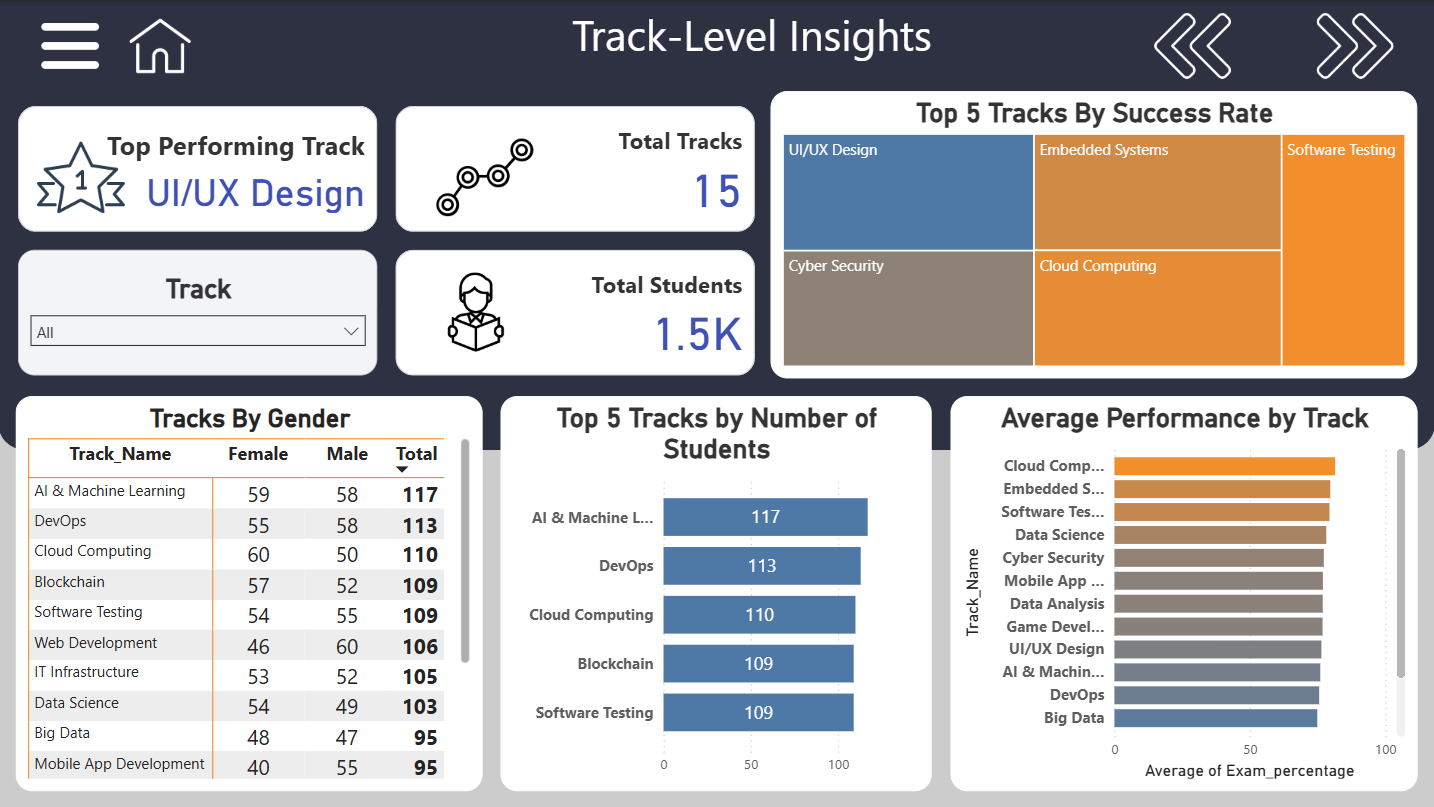

The dashboard page shown, as its layout file describes it:
{"tool":"powerbi","page":{"name":"06.Track-Level Insights","canvas":[1280,720],"ordinal":5},"visuals":[{"type":"shape","box":[0,0,1280,400],"z":0},{"type":"cardVisual","fields":{"Data":["Dim_Track.Total Tracks"]},"box":[354.1,93.3,320,112],"z":1000},{"type":"clusteredBarChart","title":"Top 5 Tracks by Number of Students","fields":{"Category":["Dim_Track.Track_Name"],"Y":["Dim_Track.Number_of_Students for track"]},"box":[448,352,384,352],"z":2000},{"type":"treemap","title":"Top 5 Tracks By Success Rate","fields":{"Values":["Fact_Exam_Result.Pass Rate per Track"],"Group":["Dim_Track.Track_Name"]},"box":[688,80,576,256],"z":3000},{"type":"slicer","title":"Track","fields":{"Values":["Dim_Track.Track_Name"]},"box":[18.1,221.3,320,112],"z":4000},{"type":"clusteredBarChart","title":"Average Performance by Track","fields":{"Category":["Dim_Track.Track_Name"],"Y":["Avg(Fact_Exam_Result.Exam_percentage)"]},"box":[848,352,416,352],"z":5000},{"type":"textbox","box":[448,0,448,64],"z":6000},{"type":"cardVisual","fields":{"Data":["Dim_Track.Total Students"]},"box":[354.1,221.3,320,112],"z":7000},{"type":"cardVisual","fields":{"Data":["Dim_Track.Top Performing Track"]},"box":[18.1,93.3,320,112],"z":8000},{"type":"pivotTable","title":"Tracks By Gender","fields":{"Rows":["Dim_Track.Track_Name"],"Columns":["Dim_student.Gender"],"Values":["Dim_Track.Number_of_Students for track"]},"box":[16,352,416,352],"z":9000},{"type":"image","box":[370.1,237.3,112,80],"z":10000},{"type":"image","box":[18.1,109.3,112,96],"z":11000},{"type":"image","box":[370.1,109.3,128,96],"z":12000},{"type":"image","box":[1136.4,0,144,80],"z":13000},{"type":"image","box":[992,0,144,80],"z":14000},{"type":"image","box":[32,0,64,80],"z":15000},{"type":"image","box":[112,0,64,80],"z":16000}]}

Visuals, with their boxes in screenshot pixels (x1, y1, x2, y2), scaled from the page's 1280x720 canvas onto the 1434x807 screenshot:
shape: bbox(0, 0, 1433, 448)
cardVisual - Dim_Track.Total Tracks: bbox(397, 105, 755, 230)
"Top 5 Tracks by Number of Students" clusteredBarChart: bbox(502, 395, 932, 789)
"Top 5 Tracks By Success Rate" treemap: bbox(771, 90, 1416, 377)
"Track" slicer: bbox(20, 248, 379, 374)
"Average Performance by Track" clusteredBarChart: bbox(950, 395, 1416, 789)
textbox: bbox(502, 0, 1004, 72)
cardVisual - Dim_Track.Total Students: bbox(397, 248, 755, 374)
cardVisual - Dim_Track.Top Performing Track: bbox(20, 105, 379, 230)
"Tracks By Gender" pivotTable: bbox(18, 395, 484, 789)
image: bbox(415, 266, 540, 356)
image: bbox(20, 123, 146, 230)
image: bbox(415, 123, 558, 230)
image: bbox(1273, 0, 1433, 90)
image: bbox(1111, 0, 1273, 90)
image: bbox(36, 0, 108, 90)
image: bbox(125, 0, 197, 90)
